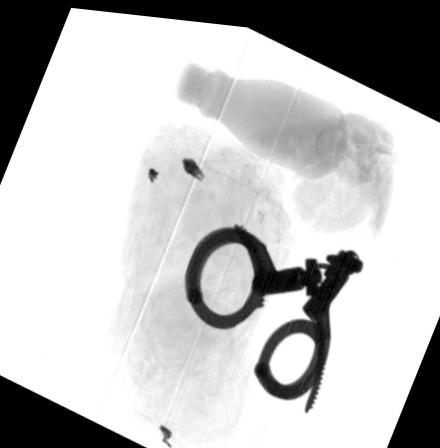HandCuffs: (183, 219, 366, 408)
